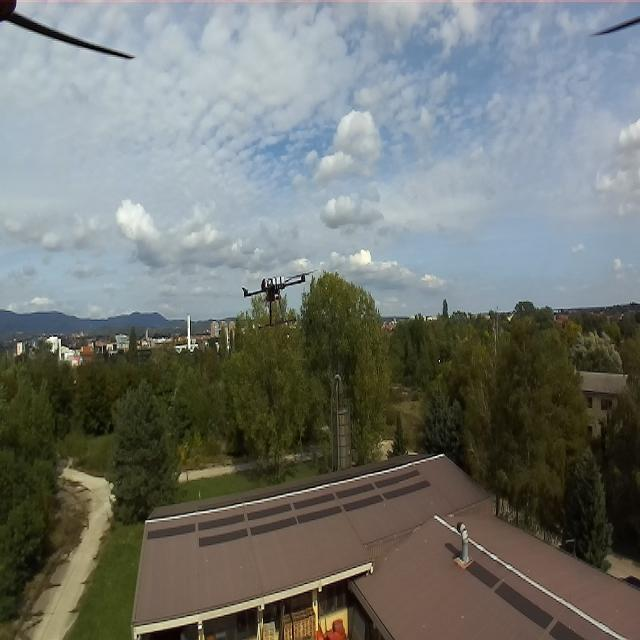UAV: (240, 264, 320, 333)
